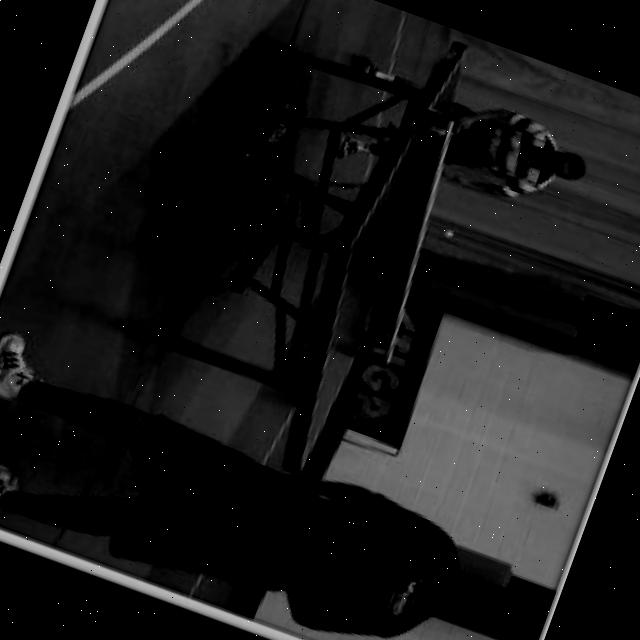ping-pong-ball: (440, 225, 459, 242)
